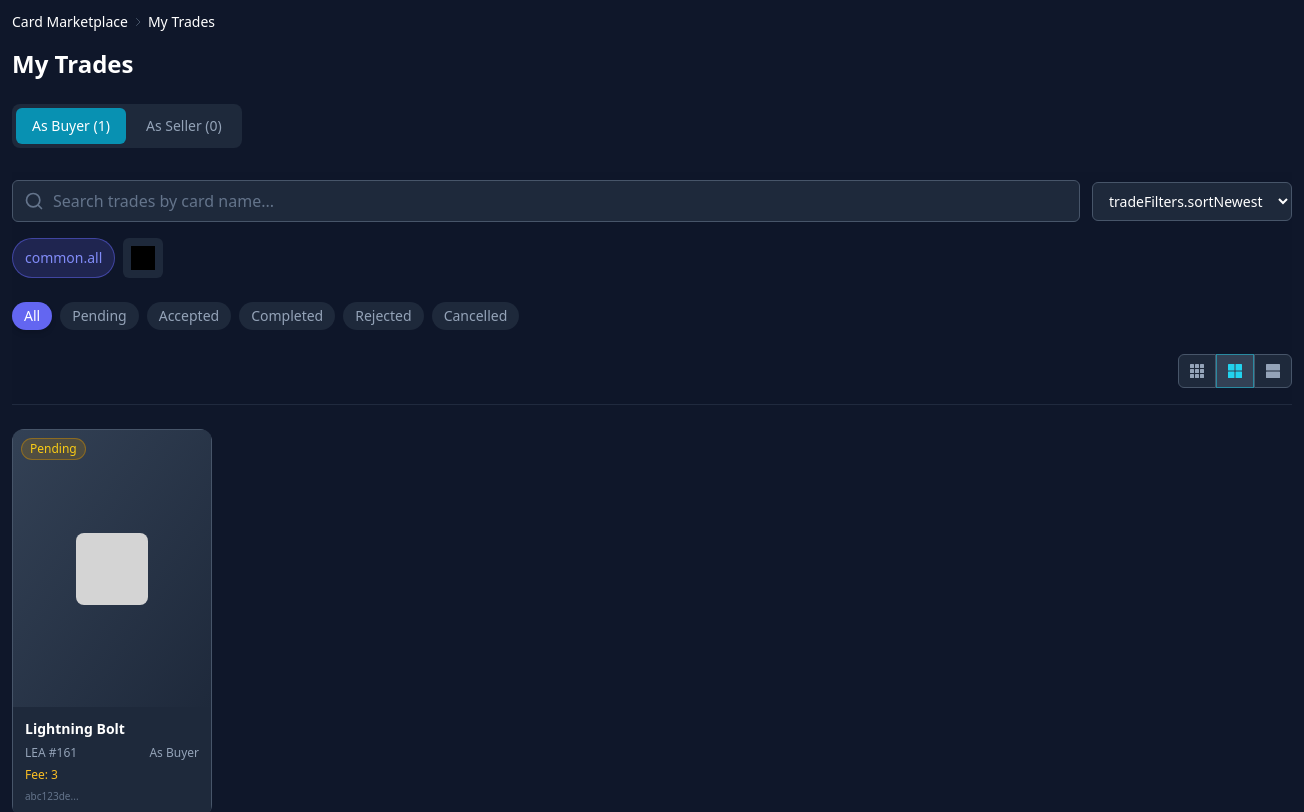
Test: MyTrades › shows filtered empty state when filters exclude everything
The width and height of the screenshot is (1304, 812).
Type "nonexistent card" into the field with placeholder "Search trades by card name...". click: (546,201)
box: [12,180,1080,222]
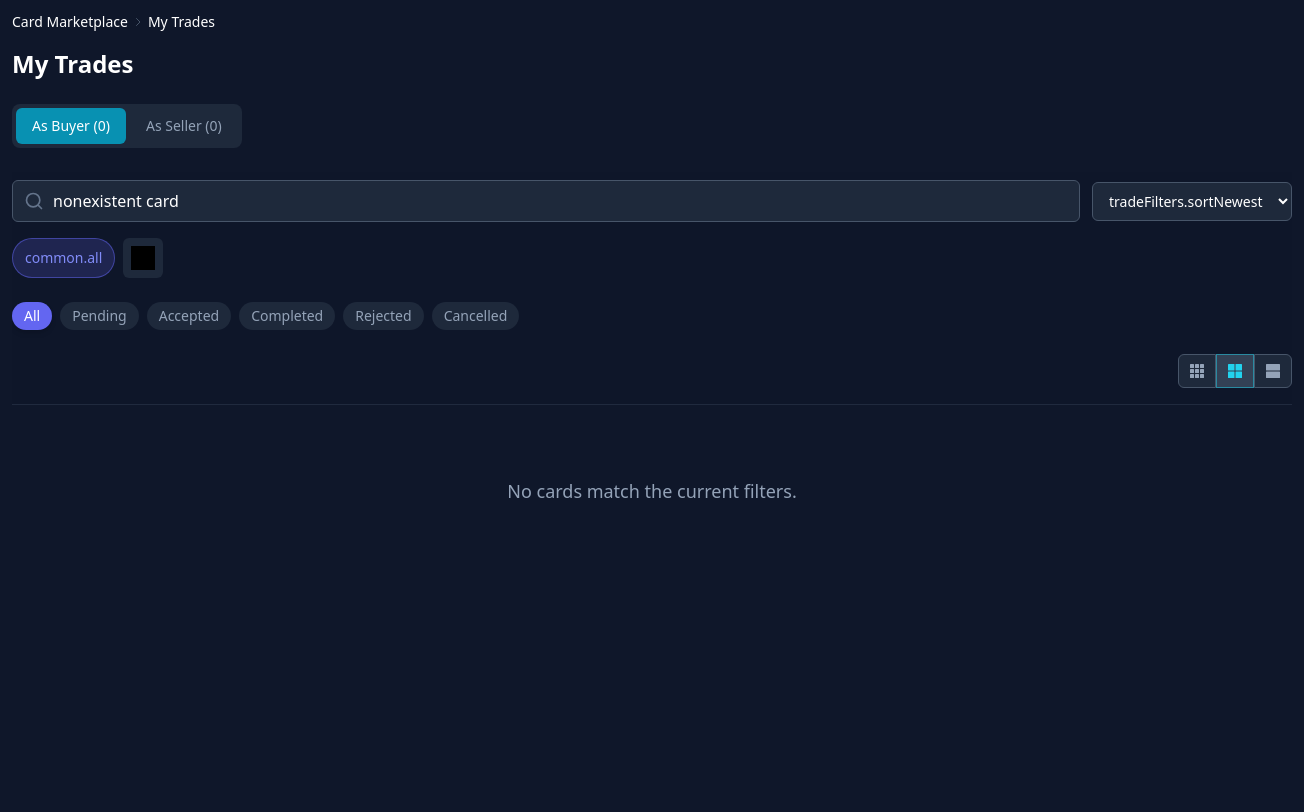
Check: the text "No cards match the current filters." is shown, box [507,477,797,505]
